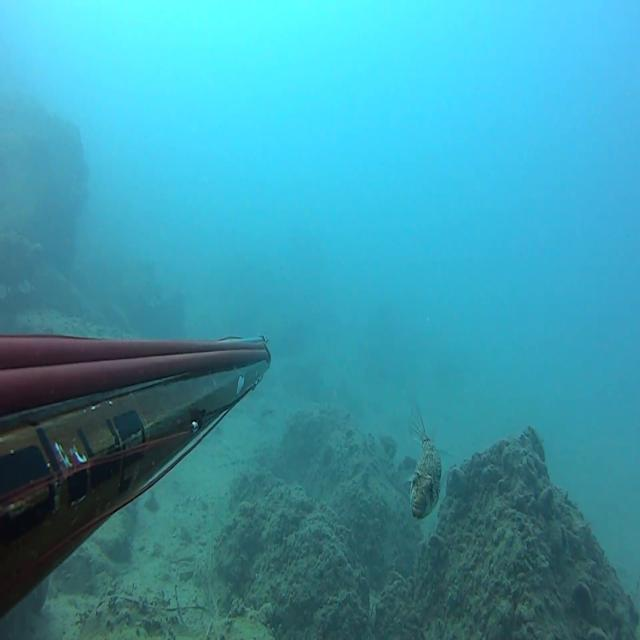Balon Baligi: (401, 401, 450, 519)
